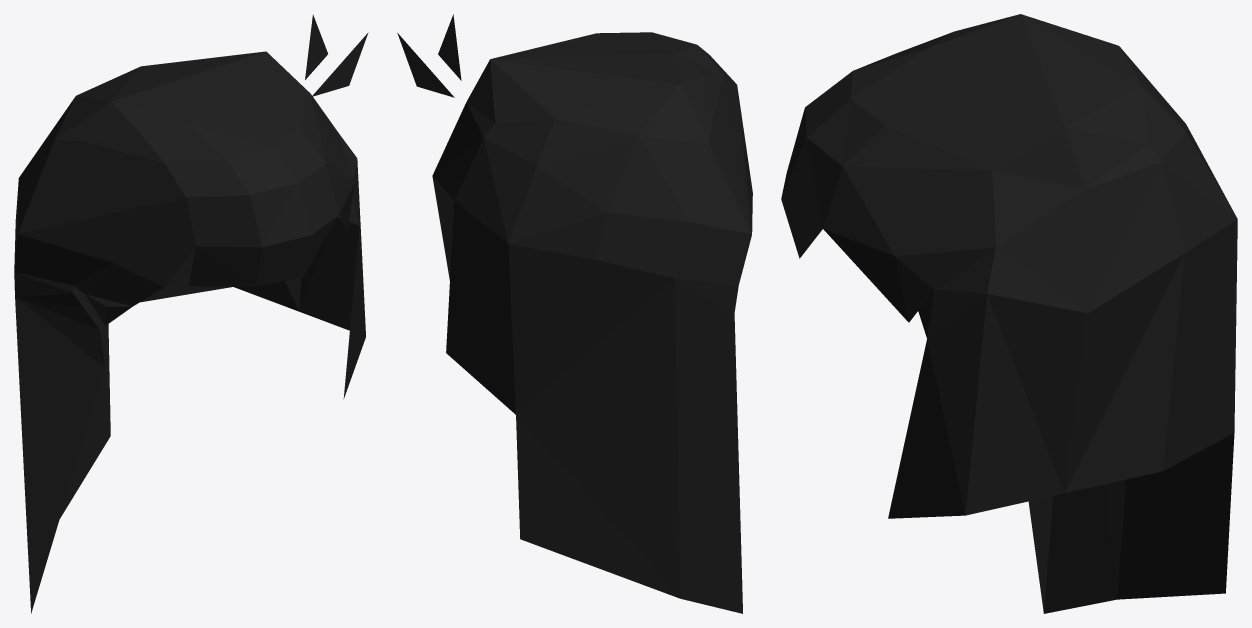
File: ENA hair.obj
3 views of the same model, side by side, from view 1: azimuth 30°, elevation 25°; view 2: azimuth 150°, elevation 25°; view 3: azimuth 270°, elevation 25° (orthographic). The views are drawn at different scales.
Parts seen in each view (by area): view 1: 3-_EnaMat_3-_EnaMat_4.3-_EnaMat.022_3-_EnaMat_3-_EnaMat_4.3-_Ena; view 2: 3-_EnaMat_3-_EnaMat_4.3-_EnaMat.022_3-_EnaMat_3-_EnaMat_4.3-_Ena; view 3: 3-_EnaMat_3-_EnaMat_4.3-_EnaMat.022_3-_EnaMat_3-_EnaMat_4.3-_Ena.
Boxes of the visible parts, left/top/right/bottom form: 3-_EnaMat_3-_EnaMat_4.3-_EnaMat.022_3-_EnaMat_3-_EnaMat_4.3-_Ena: left=14, top=14, right=368, bottom=613; 3-_EnaMat_3-_EnaMat_4.3-_EnaMat.022_3-_EnaMat_3-_EnaMat_4.3-_Ena: left=397, top=14, right=752, bottom=613; 3-_EnaMat_3-_EnaMat_4.3-_EnaMat.022_3-_EnaMat_3-_EnaMat_4.3-_Ena: left=781, top=14, right=1237, bottom=613.
Bounding box in the file's own units: 1.12 × 1.61 × 0.9836.
